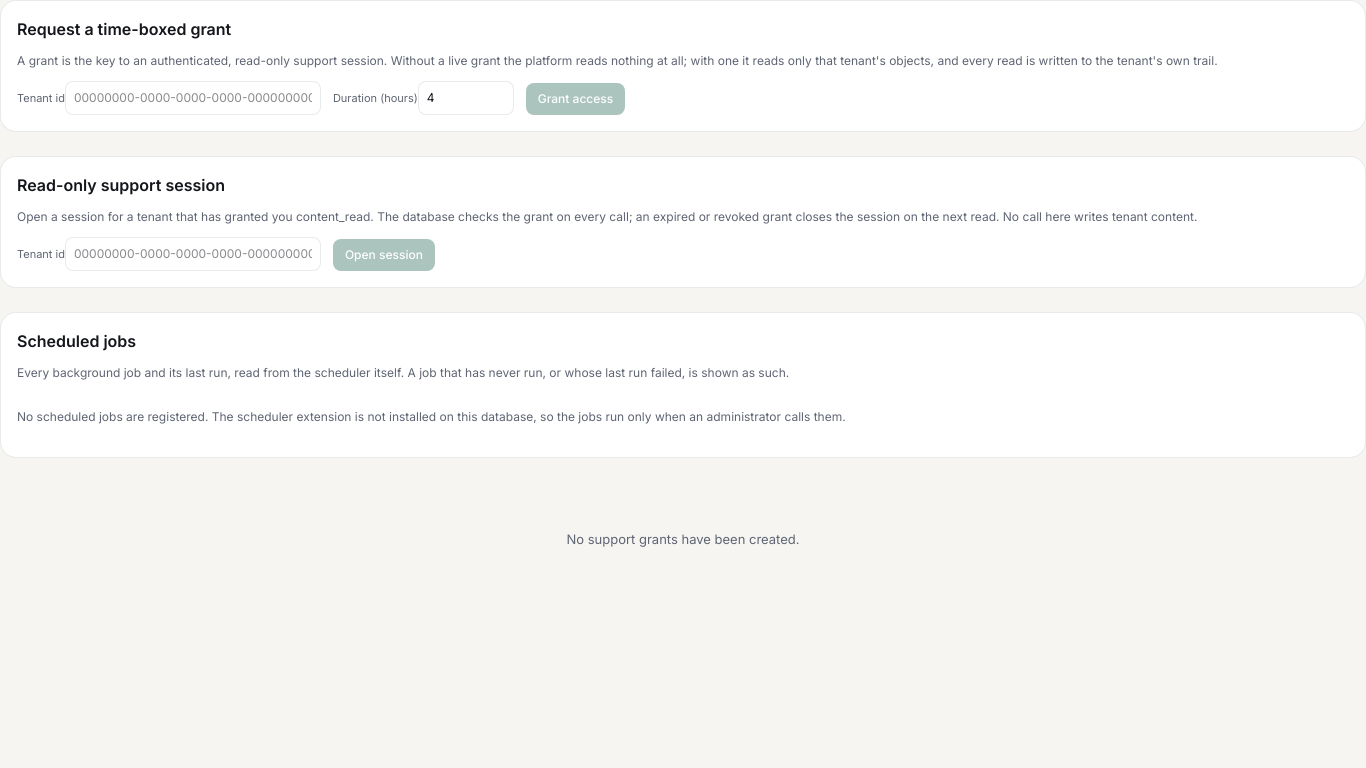
Test: SA-02 support session (C2.9) › surfaces a database refusal of the session inline
This screenshot has width=1366, height=768.
Expected: the element with test id "superadmin-support-session" is shown, [0,156,1365,288]
Type "a0000000-0000-0000-0000-000000000001" into the field with test id "superadmin-support-session-org".
click(193, 254); type("a0000000-0000-0000-0000-000000000001")  # box [65,237,321,271]
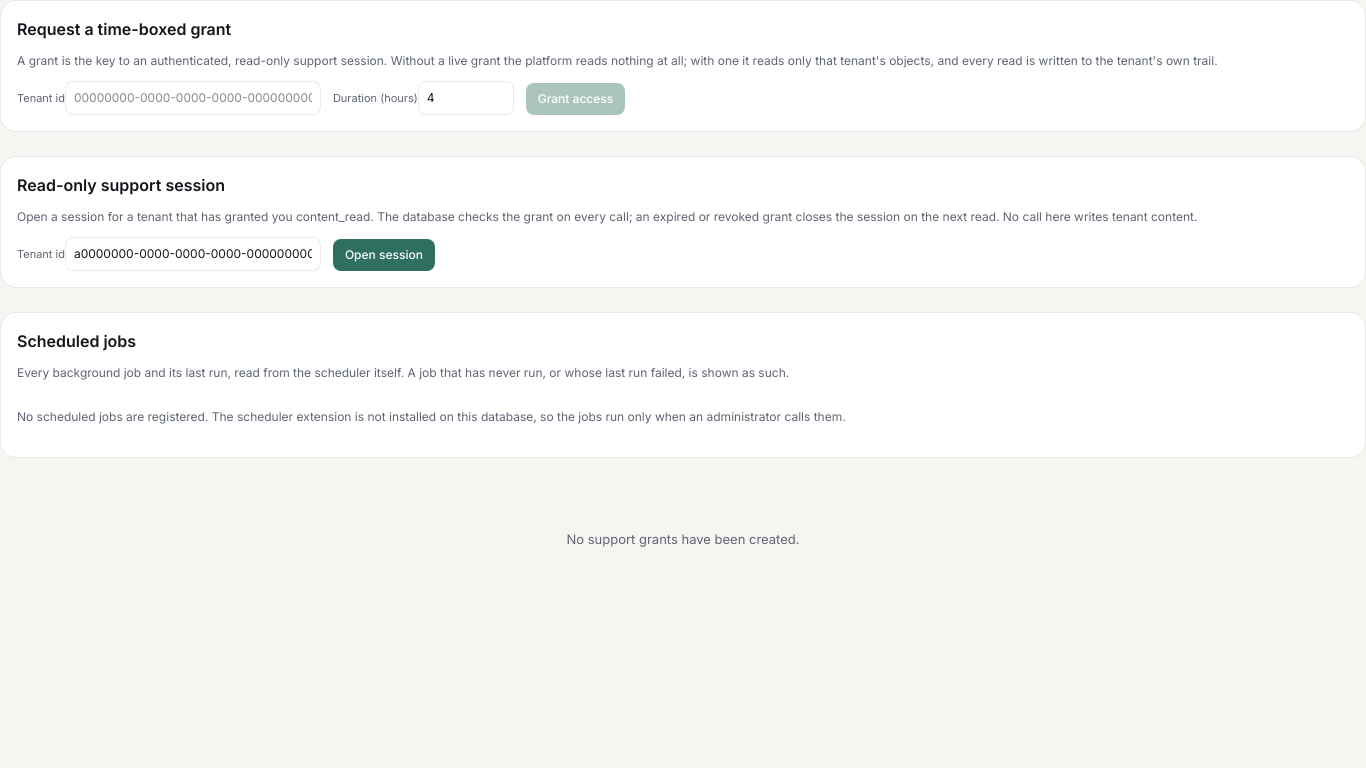
Click the button with test id "superadmin-support-session-open".
click(384, 255)  # box [333,239,435,271]
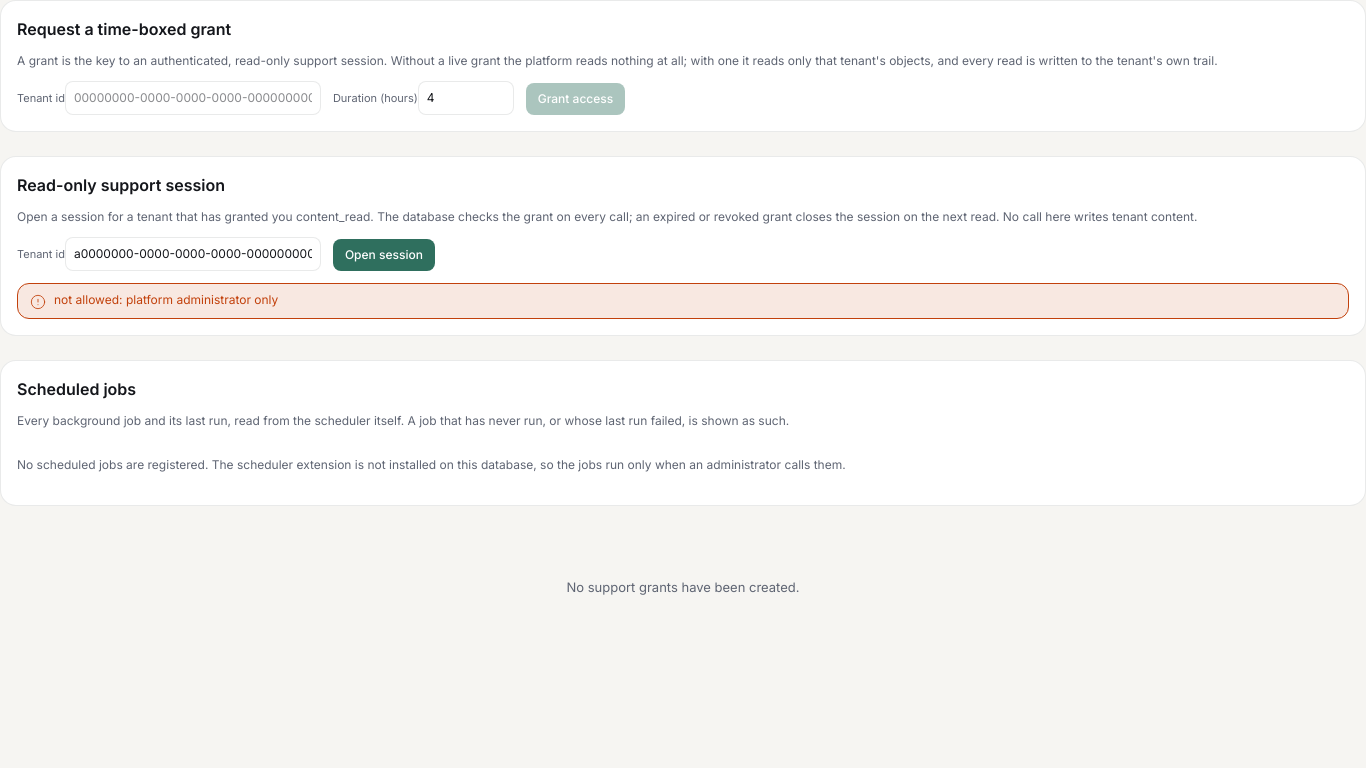
Expected: the message with test id "superadmin-support-session-error" shows "platform administrator only", [54,292,278,307]
